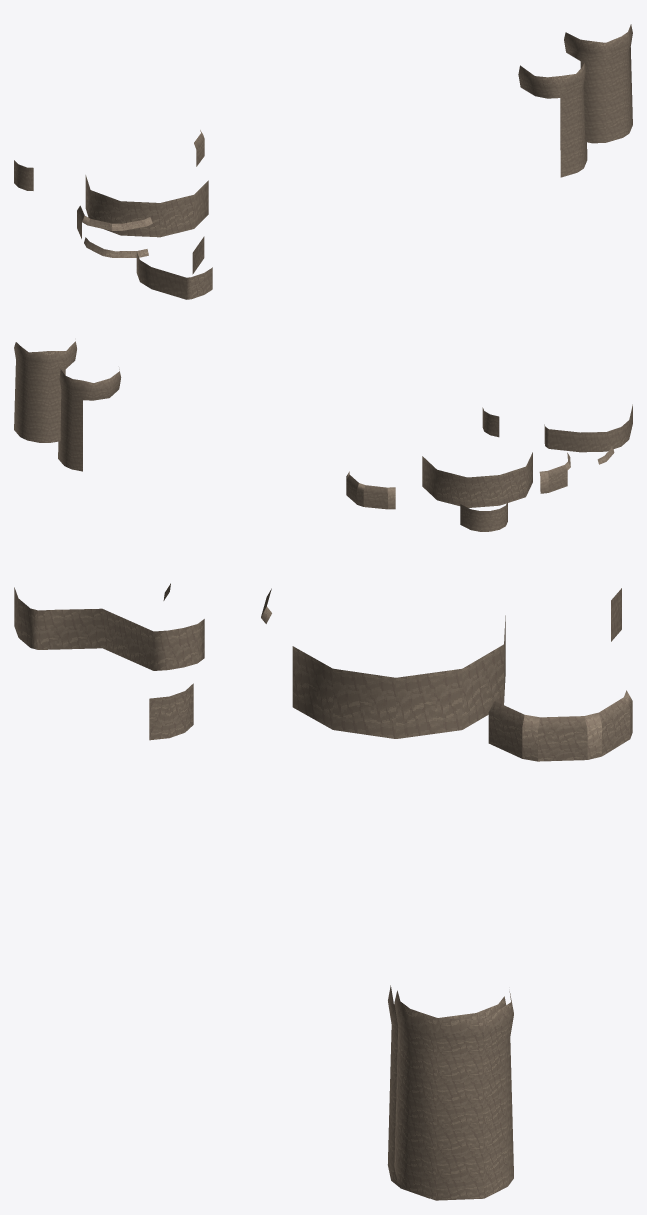
Rendered from kd_stage_1366d7_6_1_bounded.glb.
3 views of the same model, one above another, from view 1: azimuth 30°, elevation 25°; view 2: azimuth 150°, elevation 25°; view 3: azimuth 270°, elevation 25° (orthographic). The views are drawn at different scales.
Parts seen in each view (by area): view 1: kd_stage_1366d7_6_1_bounded; view 2: kd_stage_1366d7_6_1_bounded; view 3: kd_stage_1366d7_6_1_bounded.
Boxes of the visible parts, x1,y1,x2,y2 form: kd_stage_1366d7_6_1_bounded: (14, 24, 632, 299); kd_stage_1366d7_6_1_bounded: (14, 341, 632, 531); kd_stage_1366d7_6_1_bounded: (14, 583, 632, 1200).
Size of the model in its own units: 1074 by 213 by 538.
Materials: 1 (1 with a texture image).
